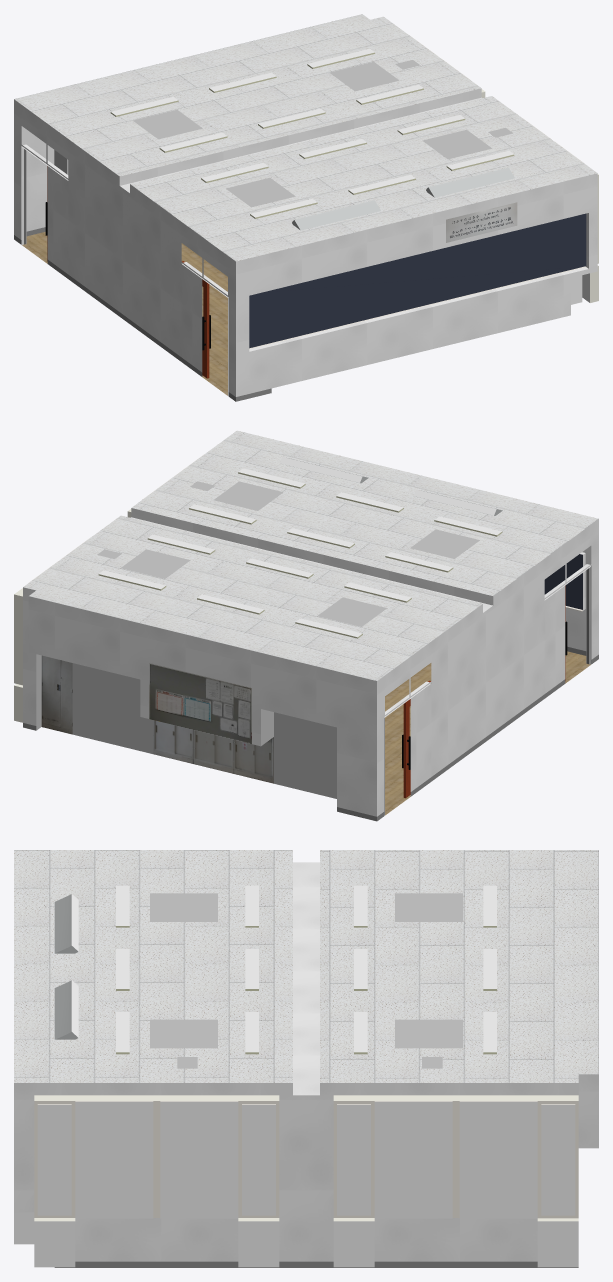
File: ClassRoom.obj
3 views of the same model, one above another, from view 1: azimuth 30°, elevation 25°; view 2: azimuth 150°, elevation 25°; view 3: azimuth 270°, elevation 25° (orthographic). The views are drawn at different scales.
Visible parts, largest first — view 1: ClassRoom; view 2: ClassRoom; view 3: ClassRoom.
Part boxes in pixels (x1,y1,x2,y2): ClassRoom: (14, 14, 598, 401); ClassRoom: (14, 430, 598, 821); ClassRoom: (14, 850, 598, 1267).
Bounding box in the file's own units: 8.34 × 3.13 × 8.6.
